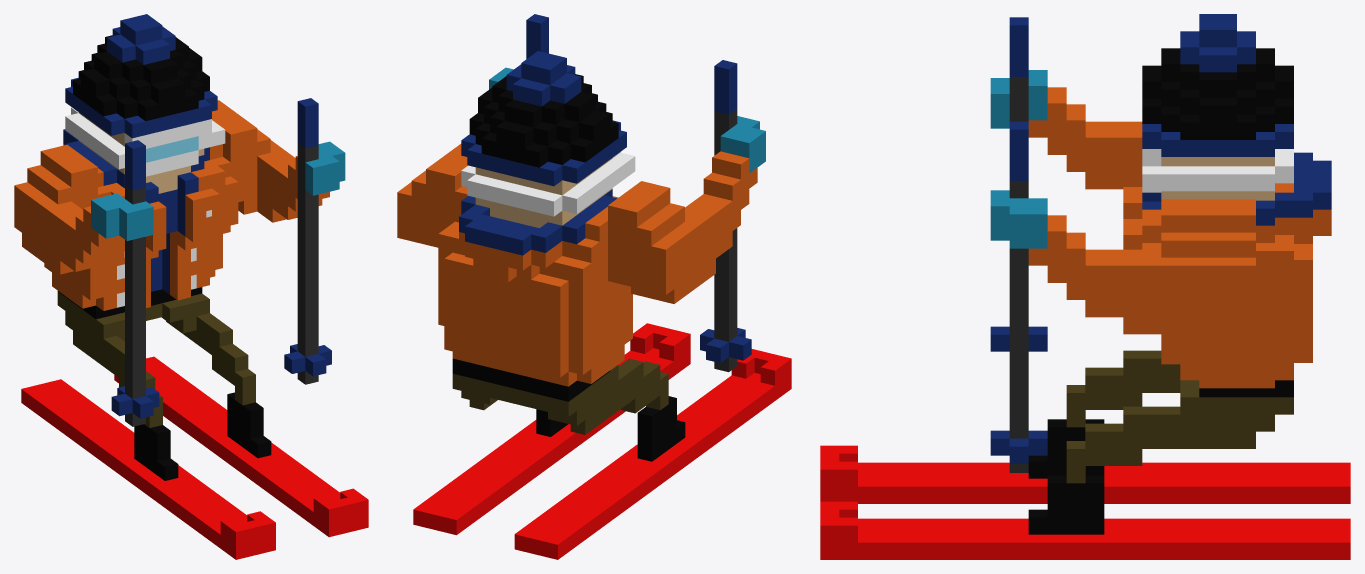
The model's file is Skieur_Chute_04.obj.
3 renders of one model, left to right at view 1: azimuth 30°, elevation 25°; view 2: azimuth 150°, elevation 25°; view 3: azimuth 270°, elevation 25°, orthographic. The views are drawn at different scales.
Size of the model in its own units: 18 by 29 by 28.
1 material, 1 textured.
